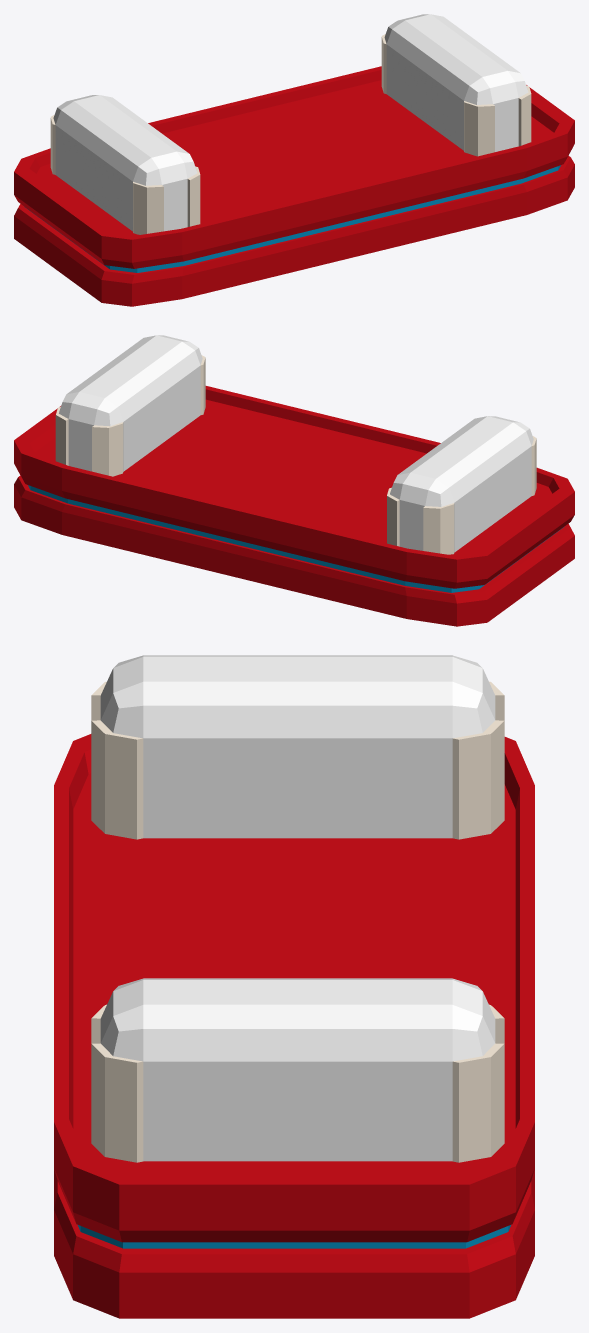
The model's file is FowerBase.fbx.
The picture shows the model from 3 angles, top to bottom: view 1: azimuth 30°, elevation 25°; view 2: azimuth 150°, elevation 25°; view 3: azimuth 270°, elevation 25°; orthographic projection. The views are drawn at different scales.
Parts seen in each view (by area): view 1: Bac, haie.001, rebord.002, lumière; view 2: Bac, haie.001, rebord.002, lumière; view 3: Bac, haie.001, rebord.002, lumière.
Boxes of the visible parts, x1,y1,x2,y2 form: Bac: (14,66,574,306); haie.001: (53,14,528,231); rebord.002: (50,34,531,234); lumière: (25,165,560,272); Bac: (14,386,574,626); haie.001: (59,335,533,552); rebord.002: (55,355,536,554); lumière: (28,485,564,592); Bac: (54,734,534,1318); haie.001: (100,655,495,1161); rebord.002: (91,681,504,1162); lumière: (78,1225,510,1248).
Size of the model in its own units: 227 by 58.32 by 100.
